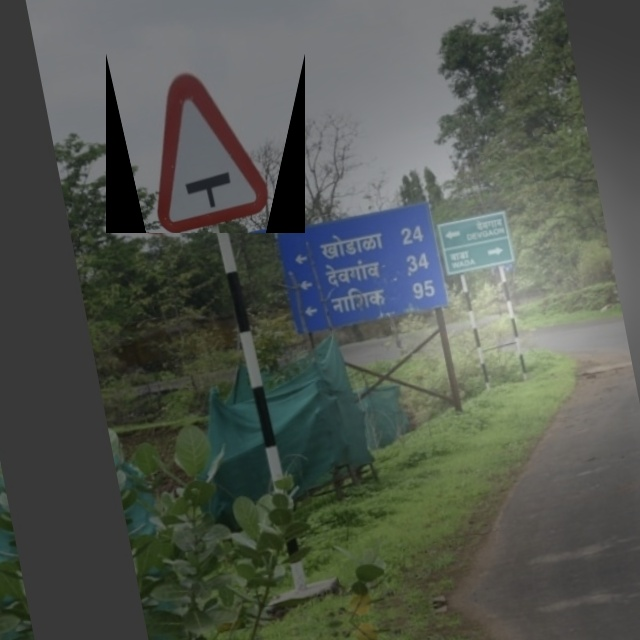T_Intersection: (106, 53, 305, 233)
